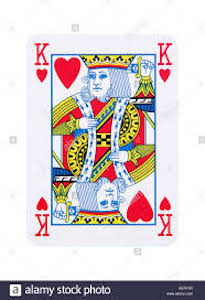KingOfHearts: (18, 30, 185, 253)
